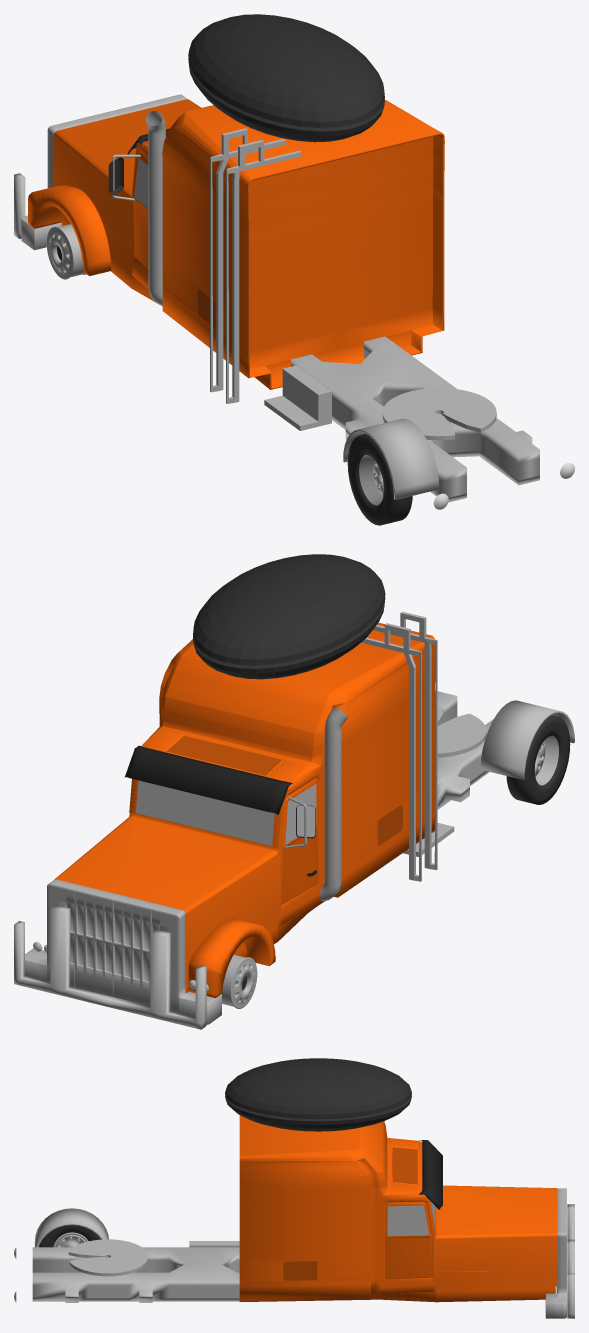
File: Cadealack_RoadTrain_truck.glb
3 views of the same model, one above another, from view 1: azimuth 30°, elevation 25°; view 2: azimuth 150°, elevation 25°; view 3: azimuth 270°, elevation 25° (orthographic). The views are drawn at different scales.
Parts seen in each view (by area): view 1: CadealackTruck, RoofLuggage, CadealackRear, Sattle, "WheelCoverRear".002, "WheelCoverFront"L, StairwaysToHeaven2, StairwaysToHeaven1, "Exhaust"L, Stairs, "tire", BumperAndCooler (+3 smaller); view 2: CadealackTruck, RoofLuggage, BumperAndCooler, AdditionalCrate0, Windglass, FrontGlass, "WheelCoverRear".002, "WheelCoverFront"L, "Exhaust"L, StairwaysToHeaven2, StairwaysToHeaven1, CadealackRear (+7 smaller); view 3: CadealackTruck, RoofLuggage, CadealackRear, Sattle, BumperAndCooler, "WheelCoverRear".002, Windglass, SideGlass, AdditionalCrate0, RoofWindow, FuelCover, "tire" (+2 smaller).
Boxes of the visible parts, x1,y1,x2,y2 form: CadealackTruck: [54, 99, 444, 389]; RoofLuggage: [188, 14, 384, 142]; CadealackRear: [291, 336, 539, 502]; Sattle: [382, 388, 496, 440]; "WheelCoverRear".002: [343, 418, 439, 499]; "WheelCoverFront"L: [28, 185, 111, 276]; StairwaysToHeaven2: [226, 140, 301, 403]; StairwaysToHeaven1: [210, 128, 285, 392]; "Exhaust"L: [146, 110, 165, 306]; Stairs: [264, 365, 331, 430]; "tire": [347, 434, 412, 525]; BumperAndCooler: [21, 94, 187, 250]; CadealackTruck: [54, 622, 435, 992]; RoofLuggage: [193, 554, 385, 679]; BumperAndCooler: [25, 879, 221, 1024]; AdditionalCrate0: [14, 905, 206, 1029]; Windglass: [124, 745, 292, 814]; FrontGlass: [135, 780, 274, 846]; "WheelCoverRear".002: [480, 700, 574, 779]; "WheelCoverFront"L: [188, 919, 275, 997]; "Exhaust"L: [319, 707, 347, 900]; StairwaysToHeaven2: [373, 611, 437, 870]; StairwaysToHeaven1: [361, 623, 421, 881]; CadealackRear: [437, 691, 493, 809]; CadealackTruck: [239, 1115, 557, 1302]; RoofLuggage: [225, 1058, 411, 1131]; CadealackRear: [32, 1247, 239, 1302]; Sattle: [68, 1239, 148, 1276]; BumperAndCooler: [545, 1188, 566, 1318]; "WheelCoverRear".002: [34, 1208, 108, 1247]; Windglass: [418, 1140, 442, 1209]; SideGlass: [387, 1205, 428, 1236]; AdditionalCrate0: [567, 1204, 574, 1318]; RoofWindow: [392, 1147, 417, 1184]; FuelCover: [283, 1261, 317, 1280]; "tire": [39, 1225, 100, 1247].
Bounding box in the file's own units: 2.67 × 4.07 × 8.81.
